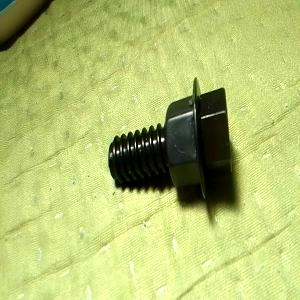parafuso: (107, 76, 231, 200)
